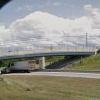Bridge: (3, 44, 91, 67)
